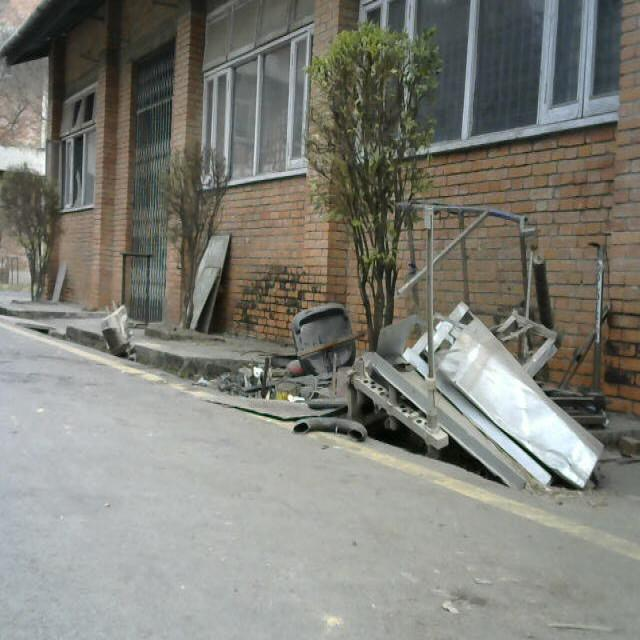Buildings: (1, 0, 634, 353)
Road: (0, 362, 640, 640)
small-obstacles: (288, 303, 606, 486)
trees: (314, 26, 450, 335), (1, 168, 71, 292)
